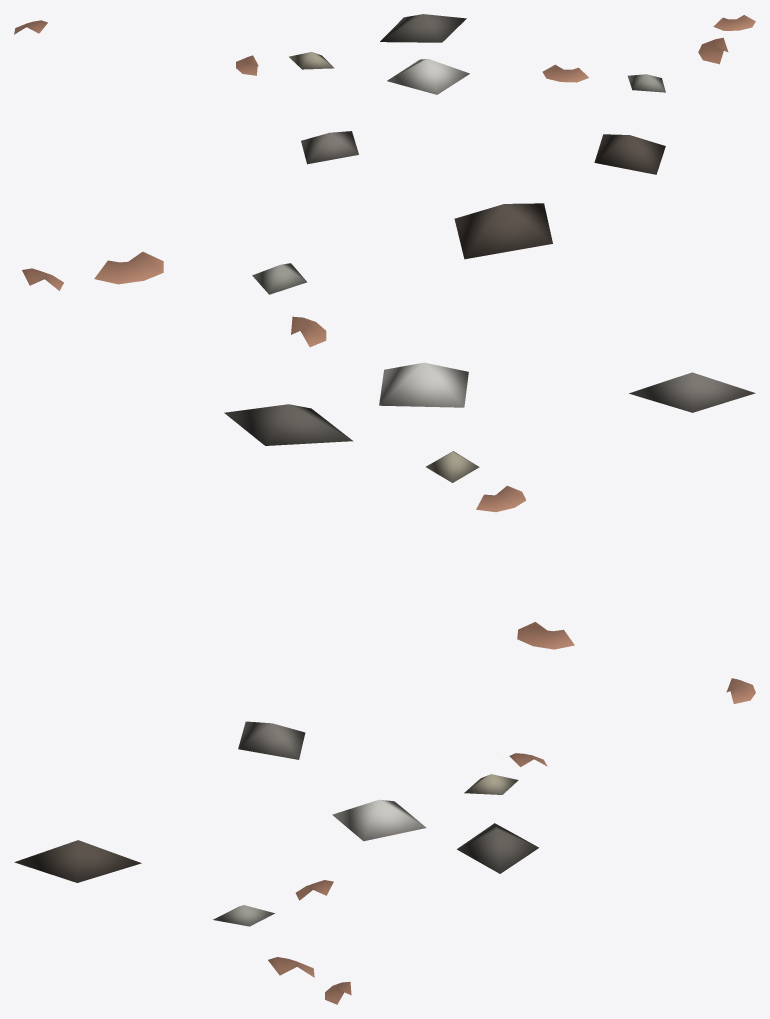
The model's file is shells-a.lod2.glb.
3 views of the same model, one above another, from view 1: azimuth 30°, elevation 25°; view 2: azimuth 150°, elevation 25°; view 3: azimuth 270°, elevation 25° (orthographic). The views are drawn at different scales.
Bounding box in the file's own units: 1.58 × 0.0722 × 1.53.
